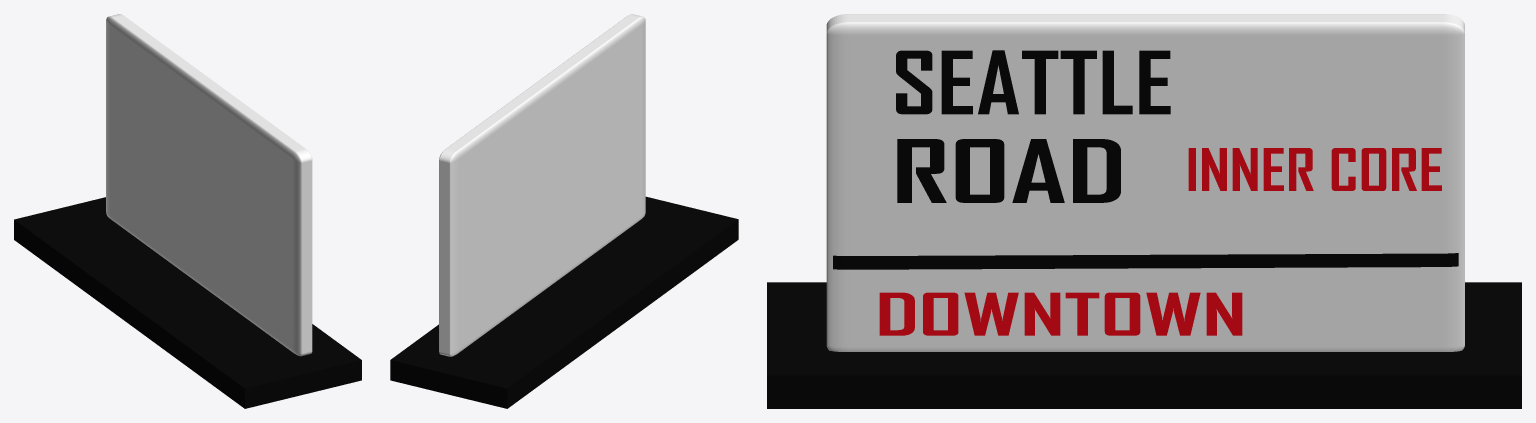
Rendered from uk_styled_street_sign_65.fbx.
The picture shows the model from 3 angles, left to right: view 1: azimuth 30°, elevation 25°; view 2: azimuth 150°, elevation 25°; view 3: azimuth 270°, elevation 25°; orthographic projection. The views are drawn at different scales.
Visible parts, largest first — view 1: Cube, Cube.001; view 2: Cube, Cube.001; view 3: Cube, Cube.001, Text.002, Text, Text.001, Text.003.
Boxes of the visible parts, left/top/right/bottom form: Cube: left=106, top=14, right=312, bottom=356; Cube.001: left=14, top=197, right=361, bottom=408; Cube: left=439, top=14, right=645, bottom=356; Cube.001: left=390, top=196, right=738, bottom=408; Cube: left=826, top=14, right=1464, bottom=351; Cube.001: left=767, top=282, right=1521, bottom=408; Text.002: left=879, top=292, right=1242, bottom=335; Text: left=896, top=50, right=1170, bottom=114; Text.001: left=897, top=139, right=1120, bottom=202; Text.003: left=1188, top=148, right=1441, bottom=190.
Bounding box in the file's own units: 12 × 21.71 × 41.07.
